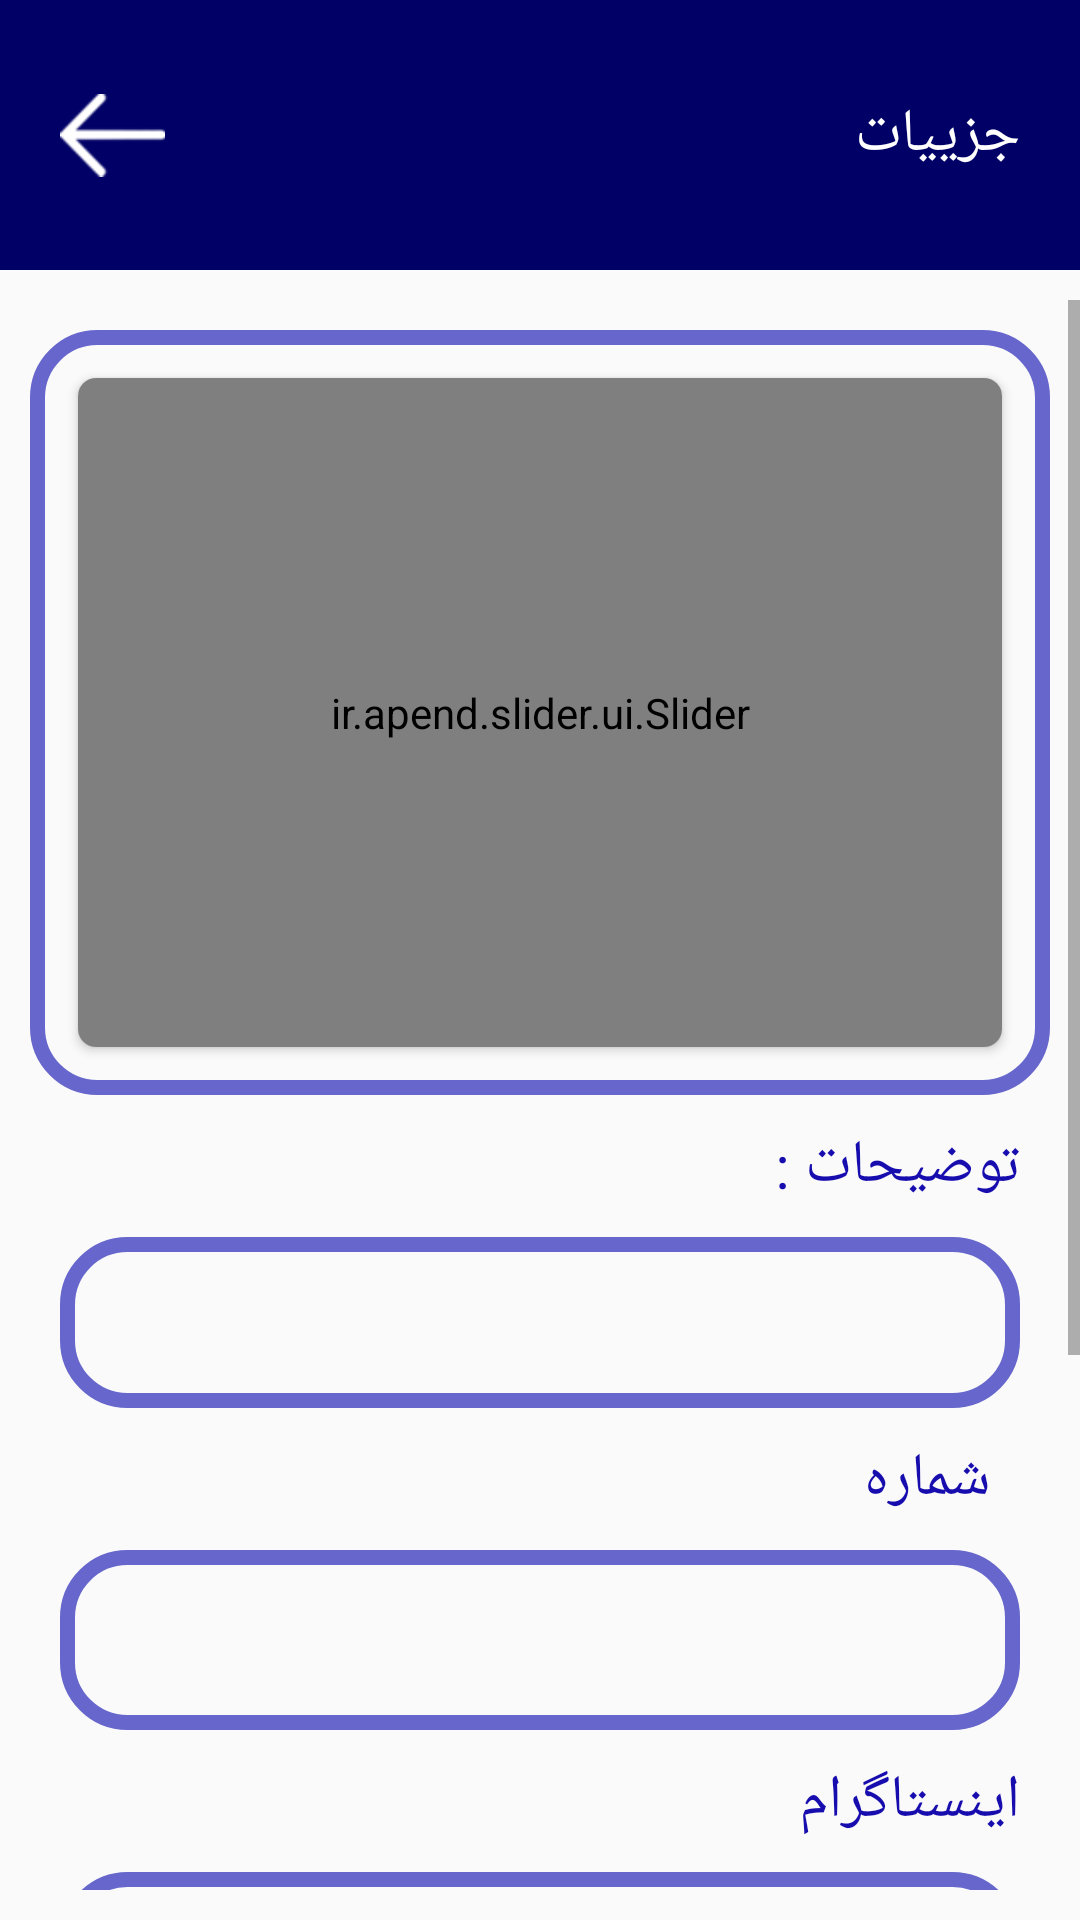

Named icons in this screenshot (1080w x 1920h) and their bounding boxes, (x1, y1, x2, y2):
back: (60, 94, 165, 177)
